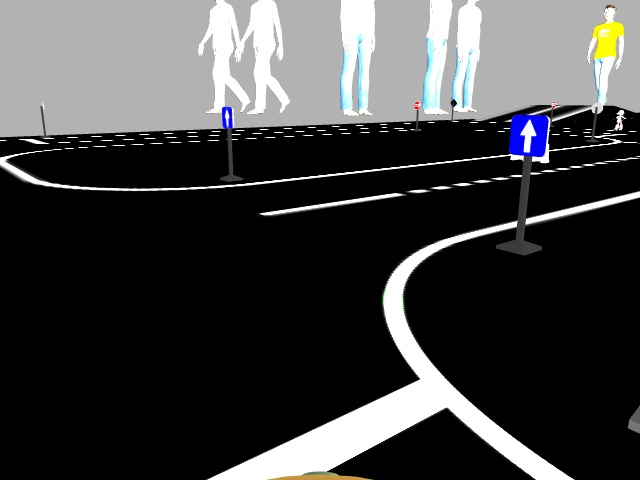OneWay: (513, 116, 546, 156), (220, 105, 233, 125)
